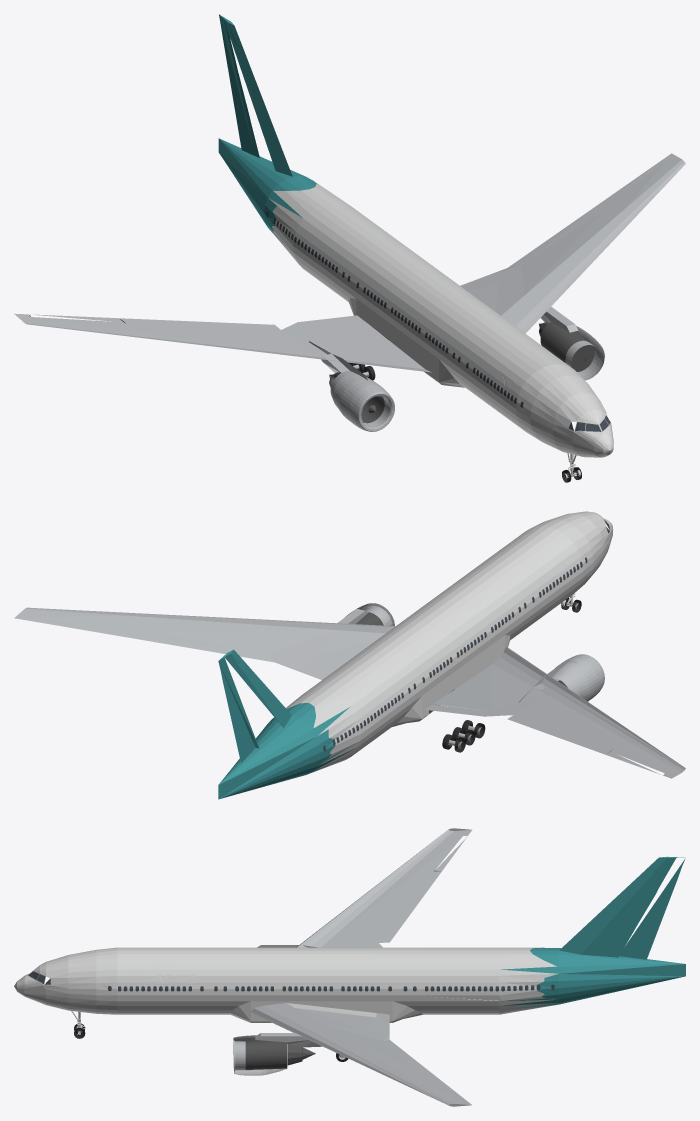
File: rivergate-airlines.glb
The picture shows the model from 3 angles, top to bottom: view 1: azimuth 30°, elevation 25°; view 2: azimuth 150°, elevation 25°; view 3: azimuth 270°, elevation 25°; orthographic projection. The views are drawn at different scales.
Visible parts, largest first — view 1: rivergate-airlines; view 2: rivergate-airlines; view 3: rivergate-airlines.
Part boxes in pixels (box(x1,y1,x2,y2)): rivergate-airlines: box(14, 14, 685, 482); rivergate-airlines: box(14, 511, 685, 799); rivergate-airlines: box(14, 828, 685, 1106).
Size of the model in its own units: 60.9 by 18.42 by 62.78.
